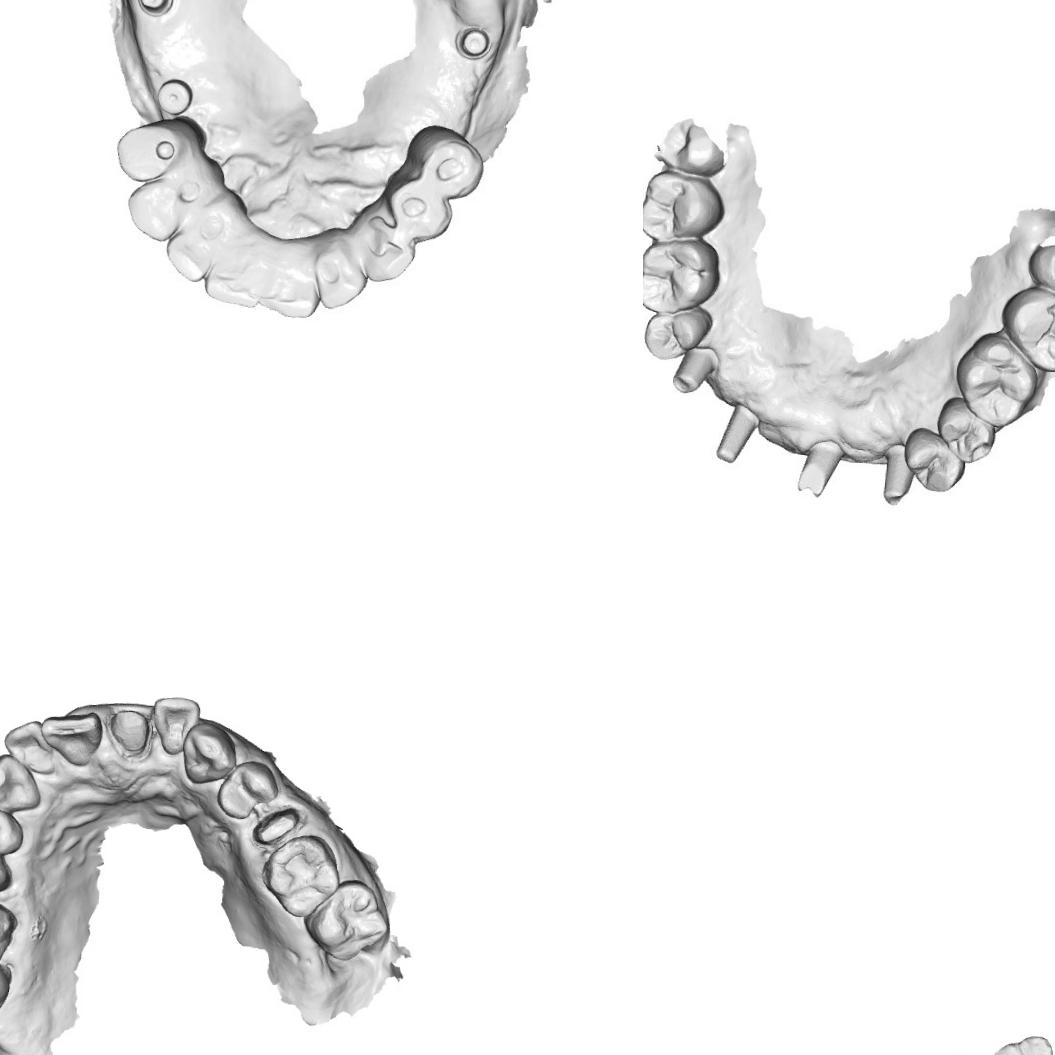abutment: (793, 430, 846, 502), (711, 398, 764, 468), (670, 342, 720, 395), (875, 440, 913, 508)
canine: (122, 176, 196, 242), (348, 217, 418, 284), (180, 720, 238, 786), (0, 751, 43, 814)
crown: (248, 801, 304, 852), (106, 702, 151, 759)
implant: (154, 75, 193, 116), (455, 20, 492, 62), (132, 0, 178, 23)
incisor: (162, 216, 226, 285), (260, 253, 321, 321), (310, 244, 367, 312), (38, 708, 103, 767), (201, 250, 263, 310), (0, 714, 56, 776), (150, 694, 200, 756)
molar: (949, 330, 1042, 429), (300, 876, 390, 963), (258, 832, 342, 920), (643, 233, 721, 316), (643, 167, 722, 244), (997, 283, 1055, 372), (1026, 236, 1055, 302), (986, 1030, 1055, 1055), (0, 888, 18, 971)
premolar: (409, 126, 486, 204), (114, 118, 190, 185), (383, 175, 454, 244), (931, 392, 999, 464), (898, 426, 966, 496), (643, 303, 715, 362), (214, 757, 280, 820), (0, 803, 24, 856)
